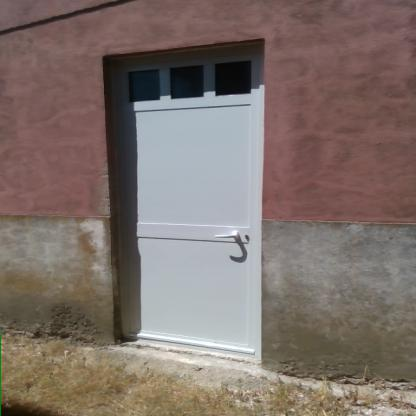door: (115, 60, 260, 360)
lever: (207, 231, 242, 247)
